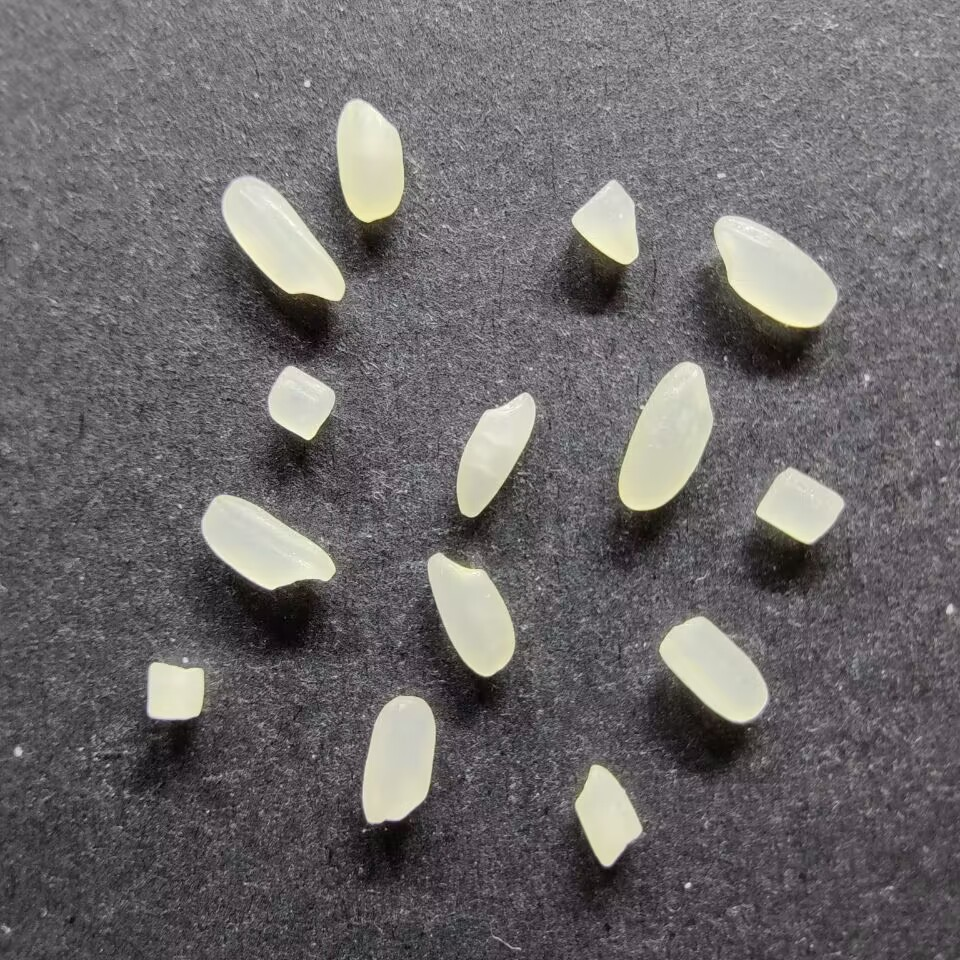broken: (572, 763, 642, 868), (754, 467, 844, 545), (570, 179, 639, 266), (266, 365, 336, 440), (145, 661, 204, 722)
rice: (221, 175, 346, 302), (617, 361, 713, 511), (713, 215, 837, 328), (200, 493, 336, 591), (657, 616, 769, 723), (426, 552, 515, 677), (455, 390, 535, 518), (361, 695, 435, 824), (335, 99, 405, 222)
